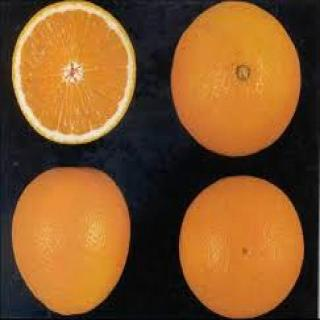orange: (16, 0, 154, 195), (13, 160, 163, 320), (172, 0, 308, 172), (165, 160, 307, 320)
